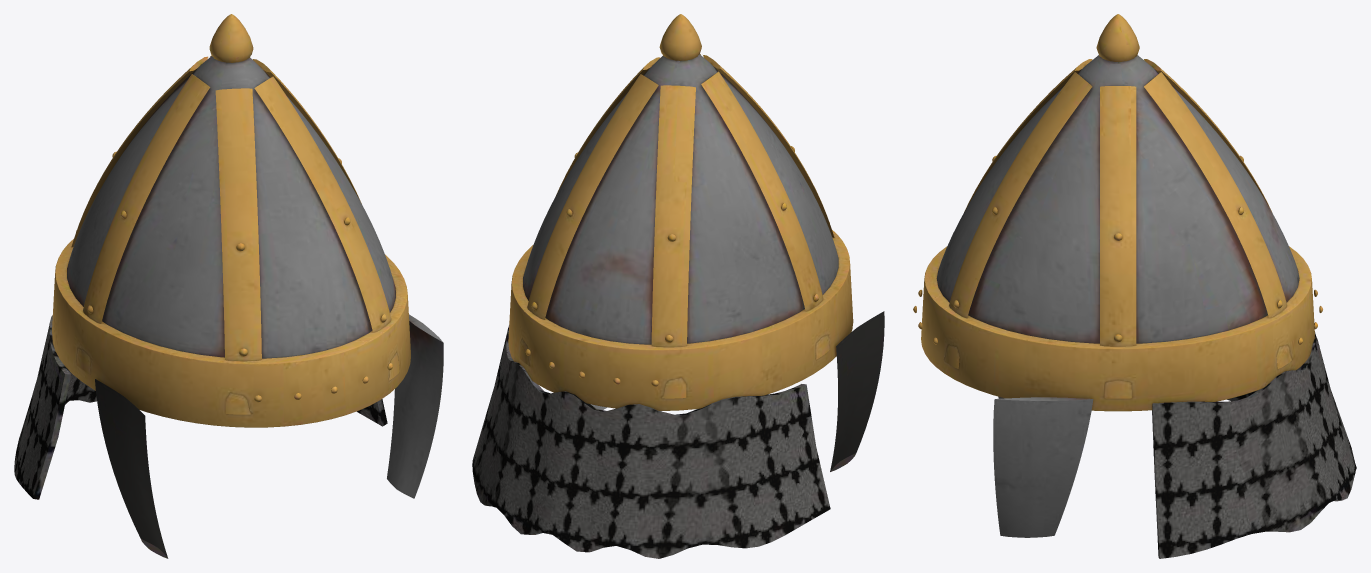
Rendered from spangenhelm.glb.
The picture shows the model from 3 angles, left to right: view 1: azimuth 30°, elevation 25°; view 2: azimuth 150°, elevation 25°; view 3: azimuth 270°, elevation 25°; orthographic projection. The views are drawn at different scales.
Visible parts, largest first — view 1: spangenhelm; view 2: spangenhelm; view 3: spangenhelm.
Part boxes in pixels (x1,y1,x2,y2): spangenhelm: [14, 14, 443, 558]; spangenhelm: [472, 14, 884, 558]; spangenhelm: [913, 14, 1356, 558].
Bounding box in the file's own units: 0.2441 × 0.3099 × 0.2693.
1 material, 1 textured.
